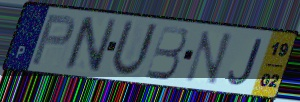B: (142, 24, 189, 81)
J: (227, 38, 264, 87)
N: (62, 15, 120, 75), (182, 29, 235, 87)
P: (28, 13, 77, 68)
U: (108, 17, 160, 79)
